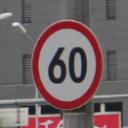speed_limit_60: (31, 20, 102, 109)
